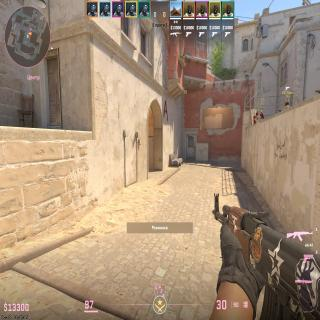T-Body: (281, 102, 292, 110)
T-Head: (285, 102, 289, 106)
